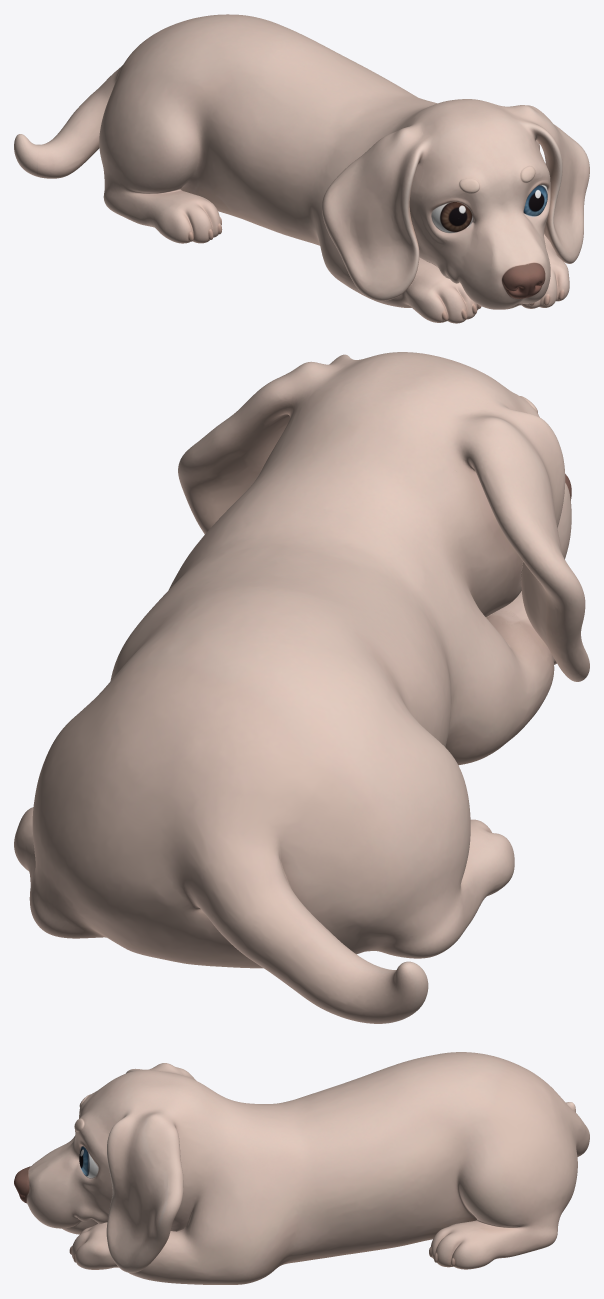
The model's file is bella.glb.
3 views of the same model, one above another, from view 1: azimuth 30°, elevation 25°; view 2: azimuth 150°, elevation 25°; view 3: azimuth 270°, elevation 25° (orthographic). The views are drawn at different scales.
Size of the model in its own units: 1.27 by 0.5995 by 1.9.
1 material, 1 textured.
